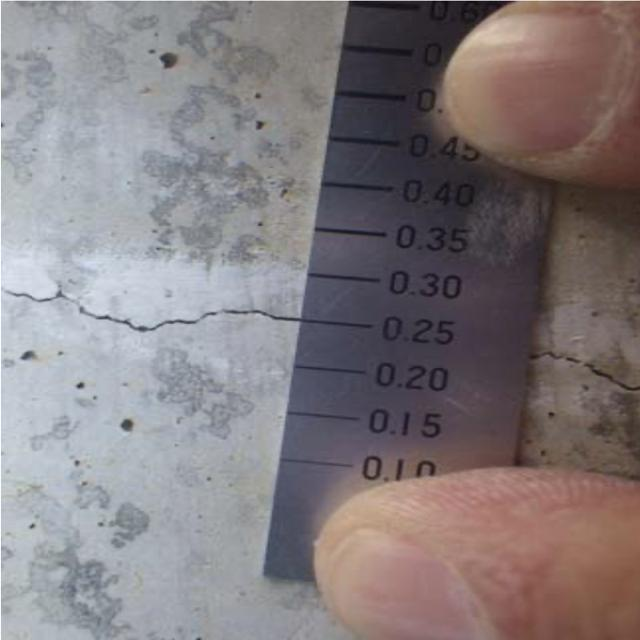crack: (5, 280, 298, 339), (530, 333, 640, 403)
